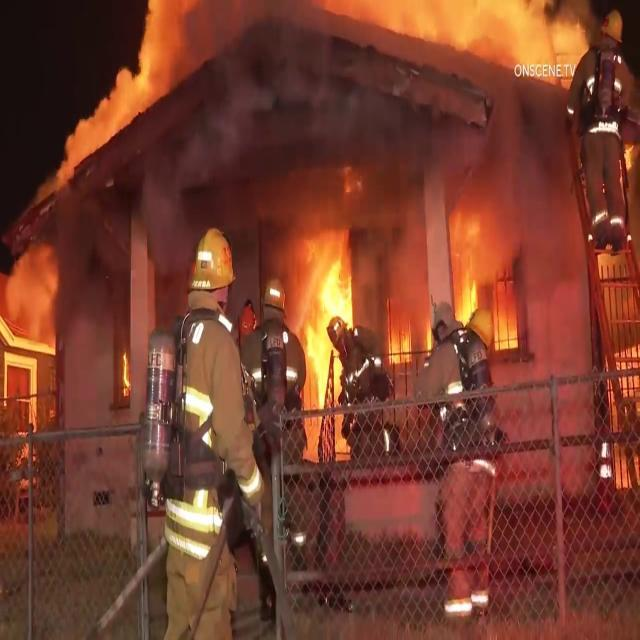Fire: (312, 228, 364, 334), (300, 333, 330, 431), (458, 241, 484, 318), (119, 346, 132, 390)
Smoke: (197, 8, 479, 174)
